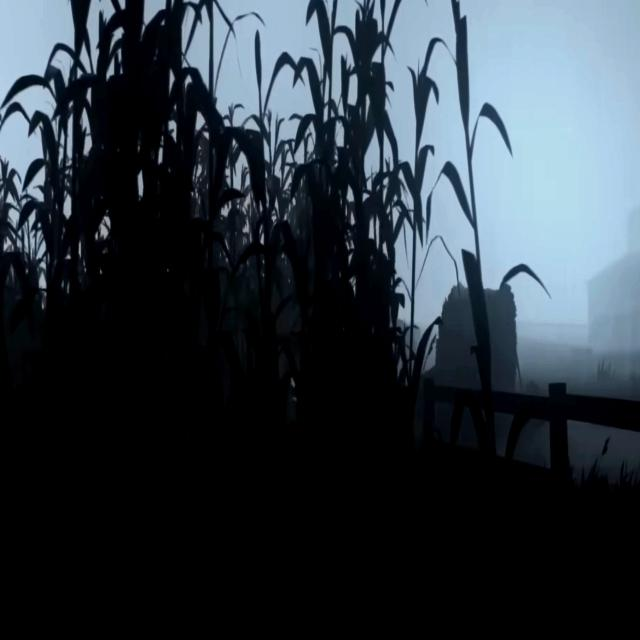boy: (290, 376, 298, 404)
